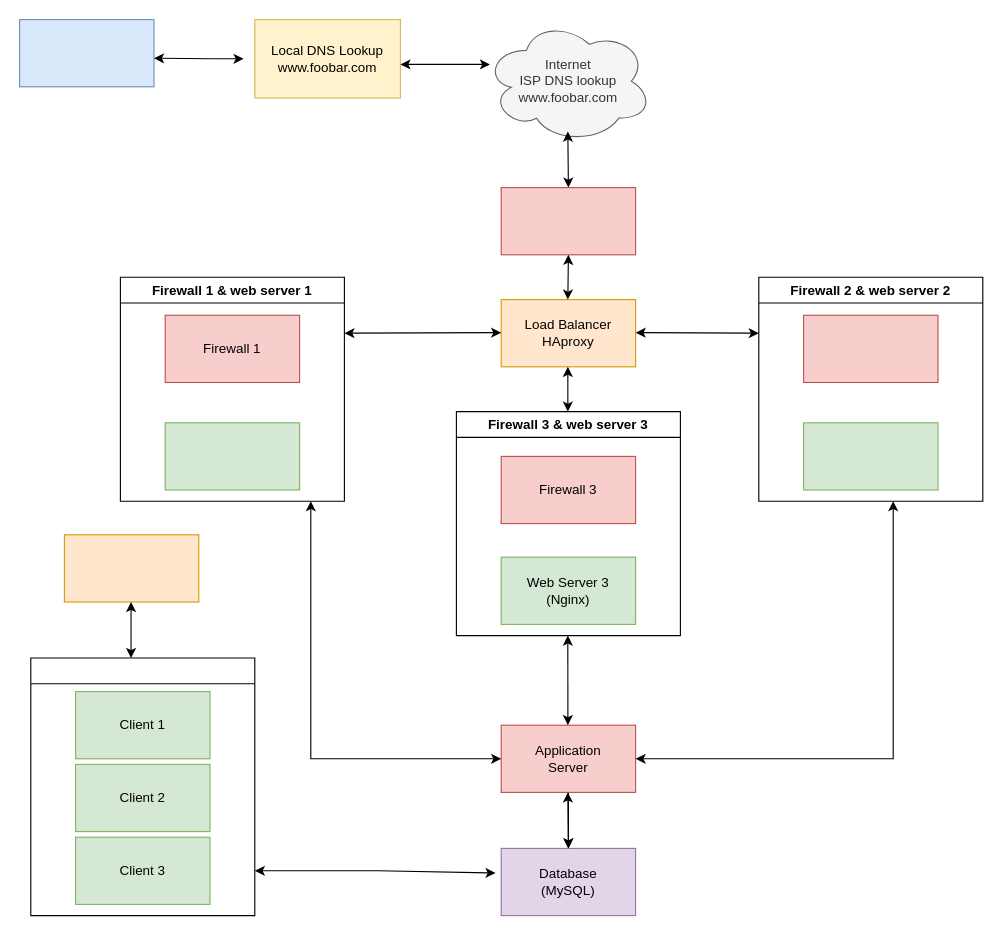
The diagram is 1002 pixels wide and 935 high, and some of its shapes have lost their labels. The box of each missing label's shape, as (x1, y1, x2, y2) in pixels:
Firewall: (500, 186, 636, 255)
Firewall 2: (802, 314, 938, 382)
Monitoring Clients: (30, 657, 255, 916)
Monitoring Tool: (63, 534, 199, 602)
User computer: (18, 18, 154, 87)
Web Server 1 (Nginx): (164, 422, 300, 490)
Web Server 2 (Nginx): (802, 422, 938, 490)
